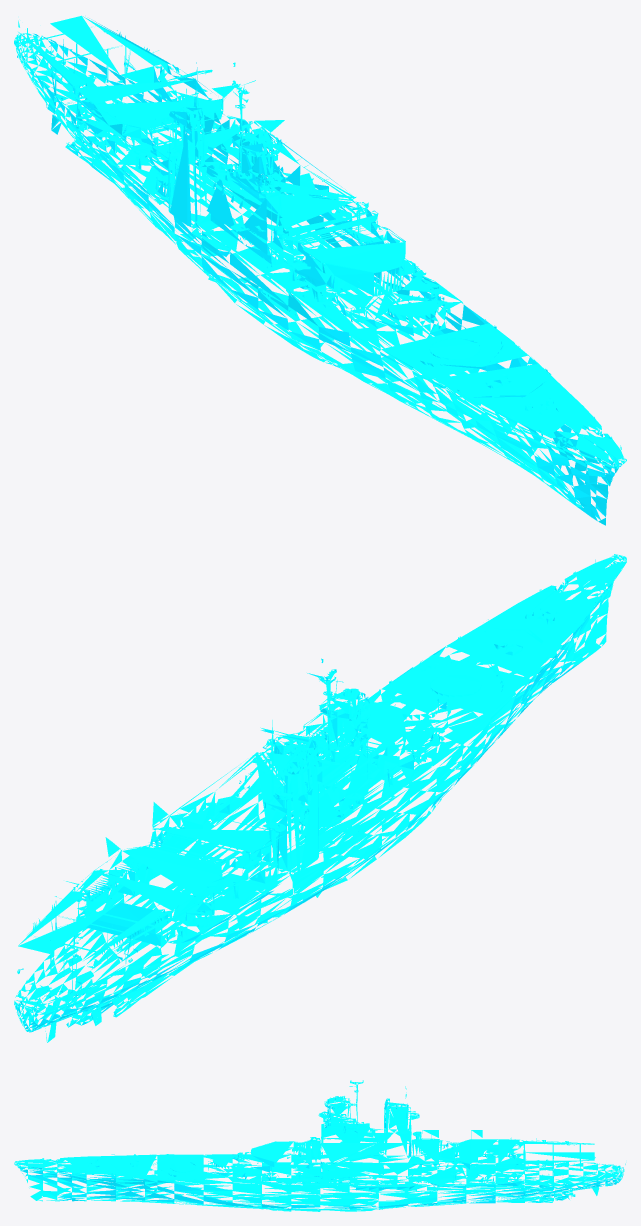
File: Amiral_Lartigue.glb
3 views of the same model, one above another, from view 1: azimuth 30°, elevation 25°; view 2: azimuth 150°, elevation 25°; view 3: azimuth 270°, elevation 25° (orthographic). The views are drawn at different scales.
Size of the model in its own units: 2.33 by 3.67 by 17.18.
